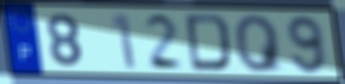1: (110, 12, 138, 71)
2: (140, 14, 184, 70)
8: (46, 13, 86, 67)
9: (285, 14, 327, 76)
D: (183, 12, 233, 73)
Q: (232, 14, 286, 74)
